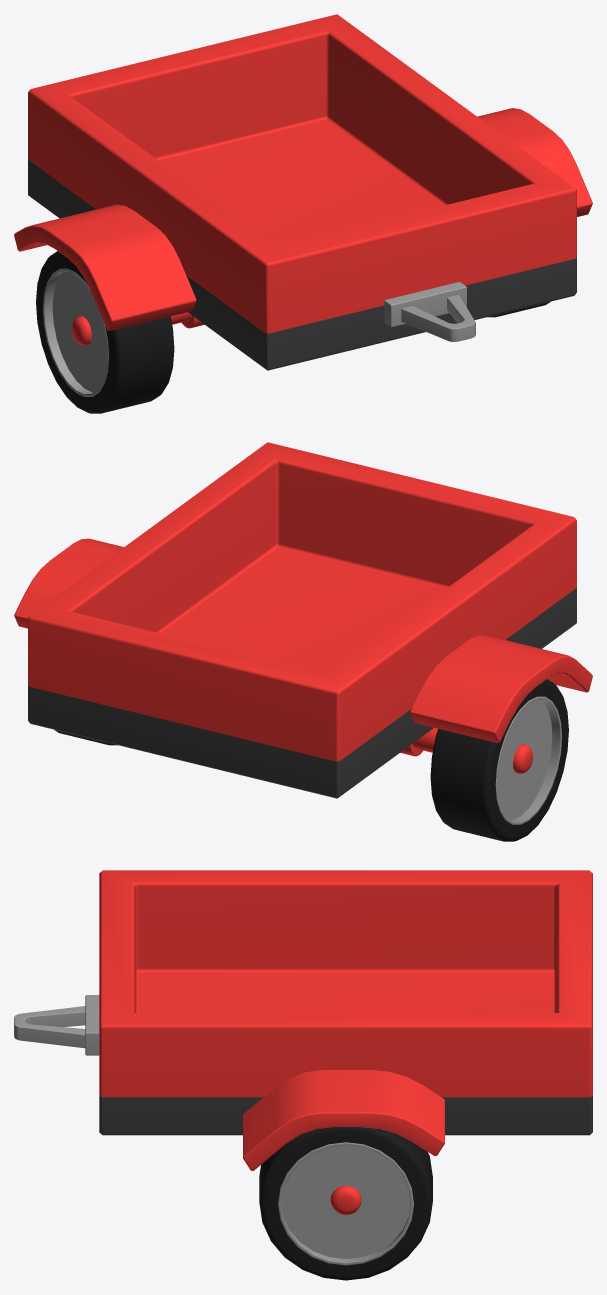
Rendered from Farm_12_Trailer_1.glb.
3 renders of one model, top to bottom at view 1: azimuth 30°, elevation 25°; view 2: azimuth 150°, elevation 25°; view 3: azimuth 270°, elevation 25°, orthographic. The views are drawn at different scales.
Visible parts, largest first — view 1: Farm_12_Trailer_1; view 2: Farm_12_Trailer_1; view 3: Farm_12_Trailer_1.
Part boxes in pixels (x1,y1,x2,y2): Farm_12_Trailer_1: (14,14,592,413); Farm_12_Trailer_1: (14,442,592,841); Farm_12_Trailer_1: (14,870,592,1280).
Size of the model in its own units: 2.53 by 1.08 by 2.56.
1 material, 1 textured.
